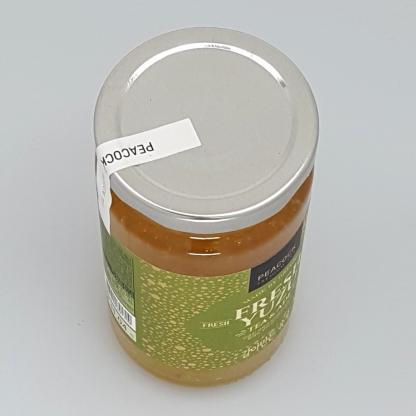------------420G: (93, 26, 319, 388)
